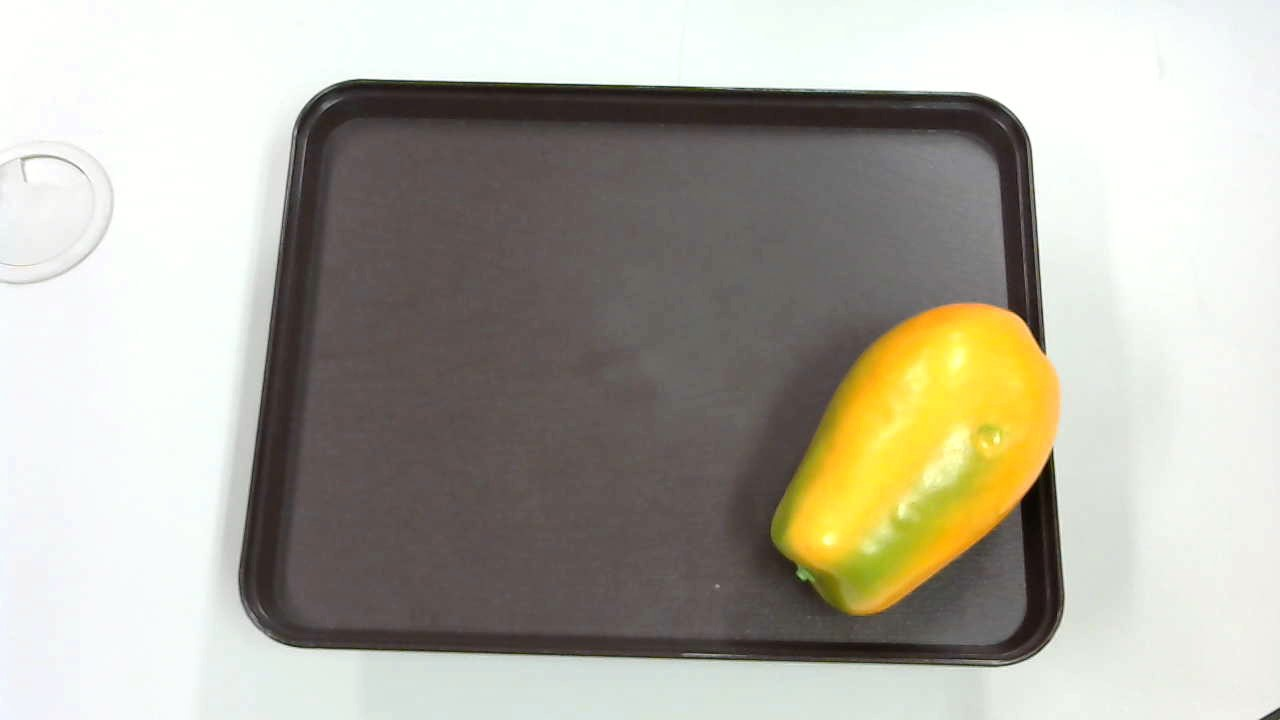papya: (761, 302, 1062, 617)
